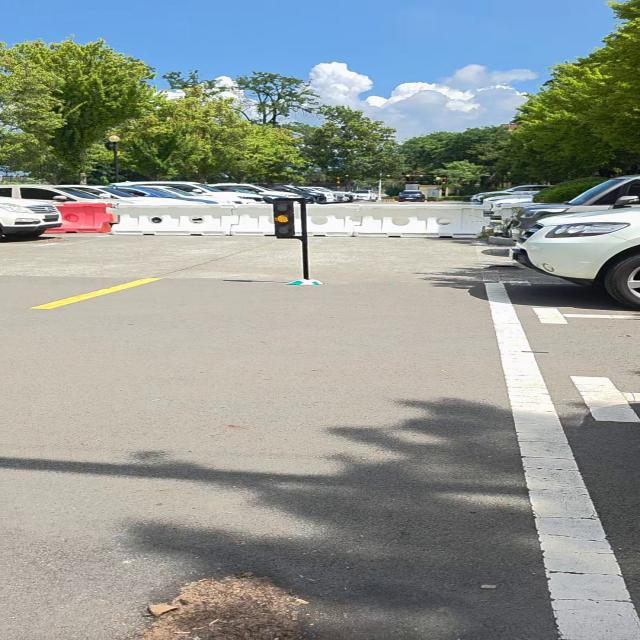yellow: (271, 200, 297, 237)
